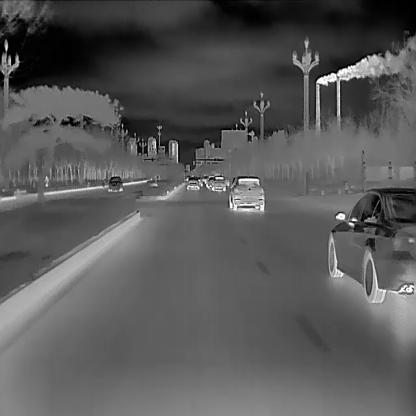car: (327, 186, 415, 303), (227, 176, 264, 210), (211, 175, 226, 190), (108, 176, 122, 192), (186, 177, 199, 190)
